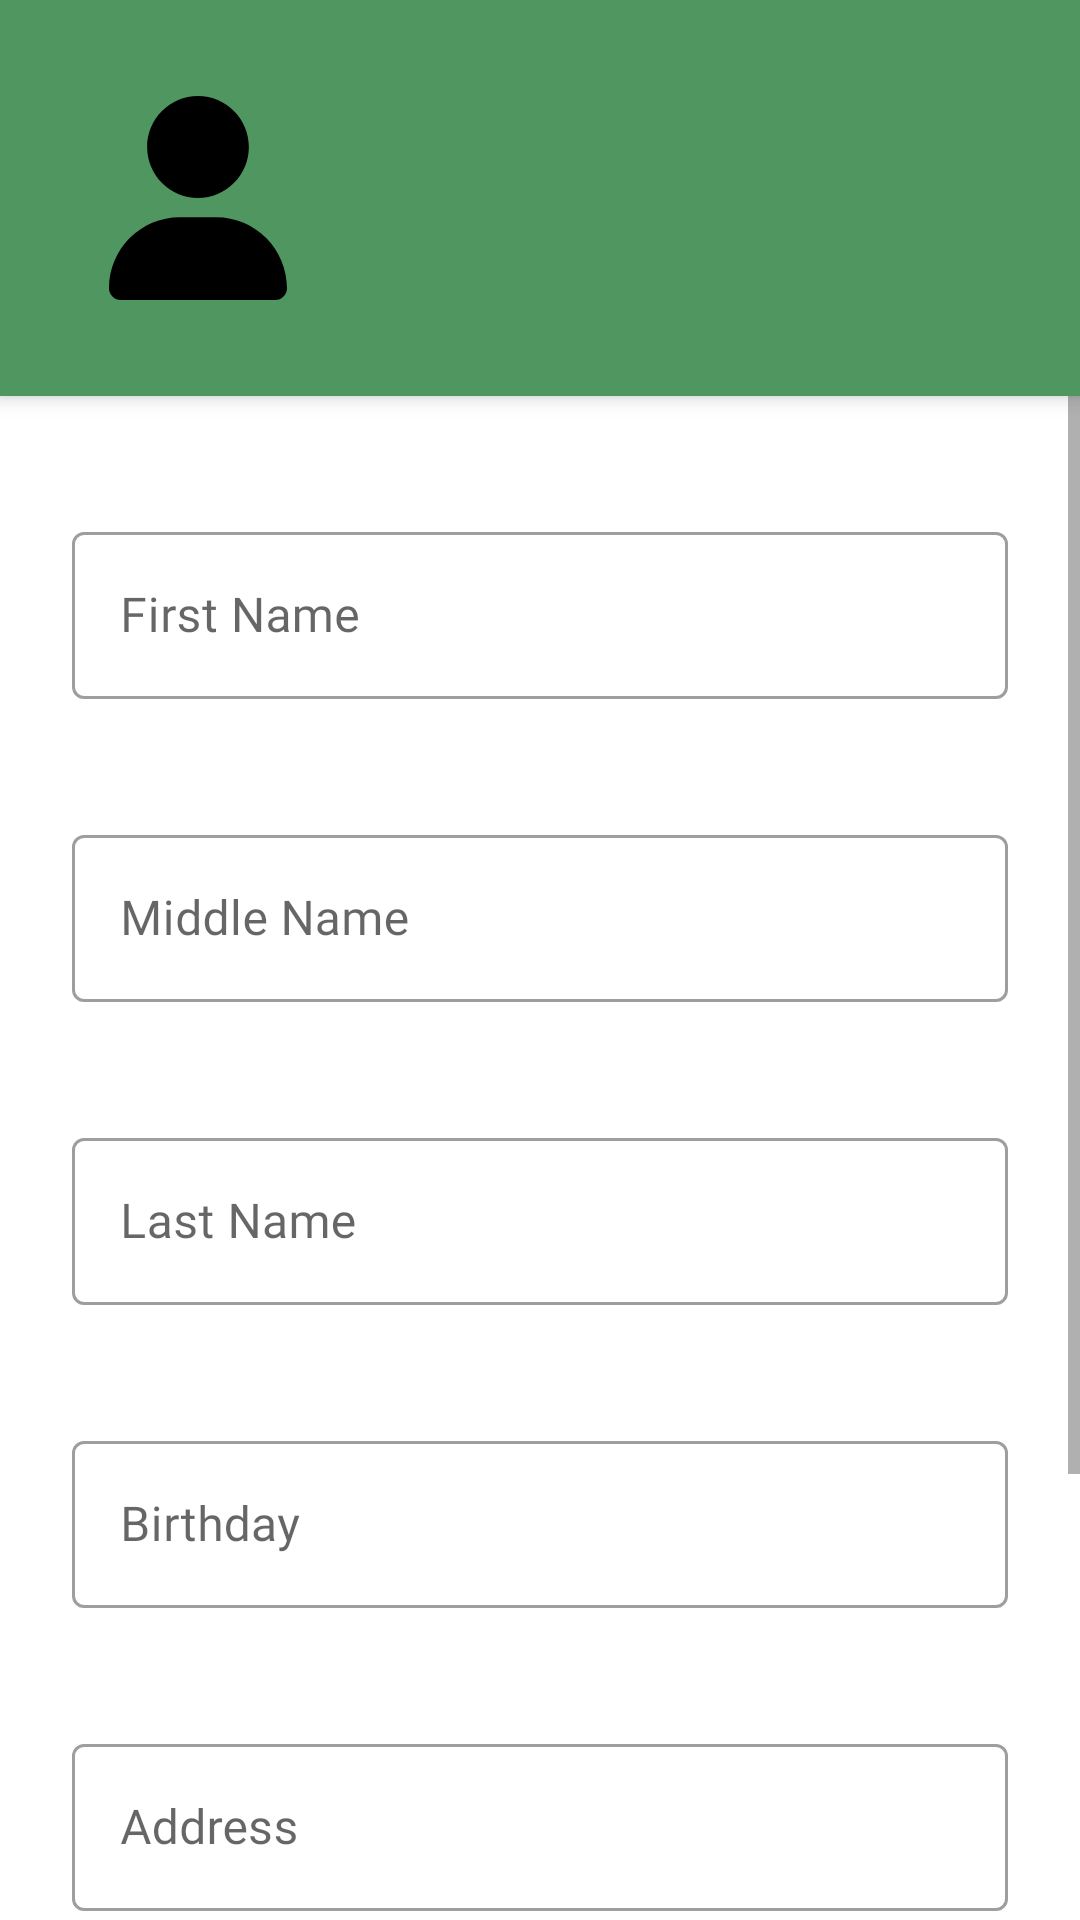

Where icons sit on this 1080px x 1920px app screen, as [left=x1, top=y1, right=x2, bottom=y2]:
user: [left=109, top=96, right=287, bottom=300]
